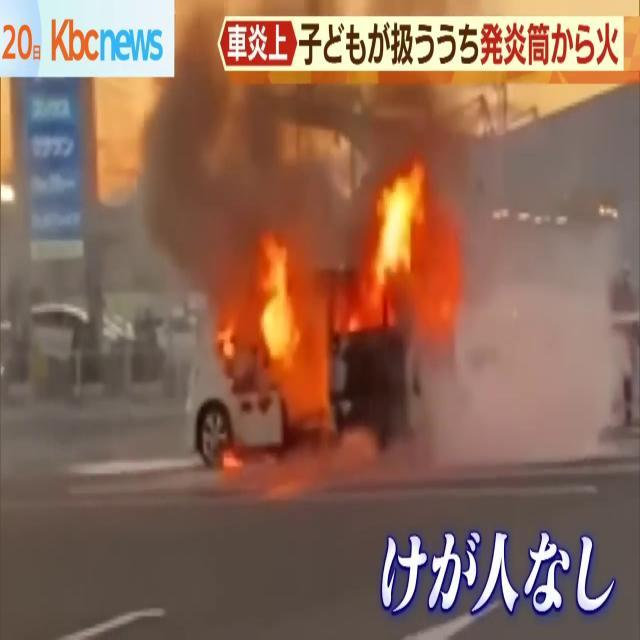Fire: (352, 152, 453, 346), (241, 227, 307, 379)
Smoke: (92, 4, 350, 330)
